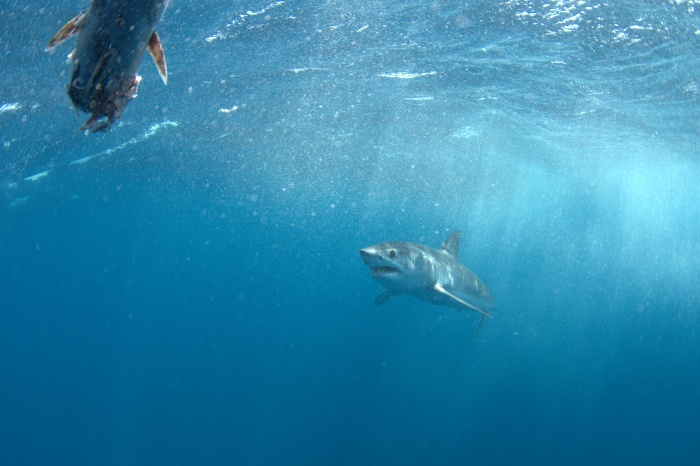Mako: (343, 225, 510, 348)
